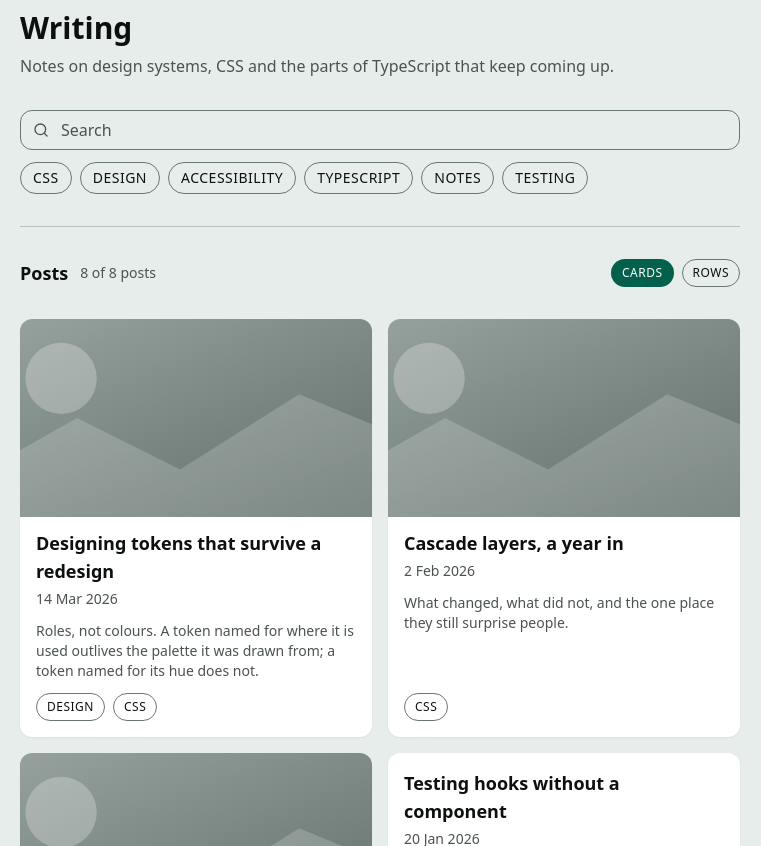
Test: the kitchen sink › typing filters the posts, once the typing stops
Type "cascade" into the search field at {"x": 380, "y": 130}, box [21,111,739,149]
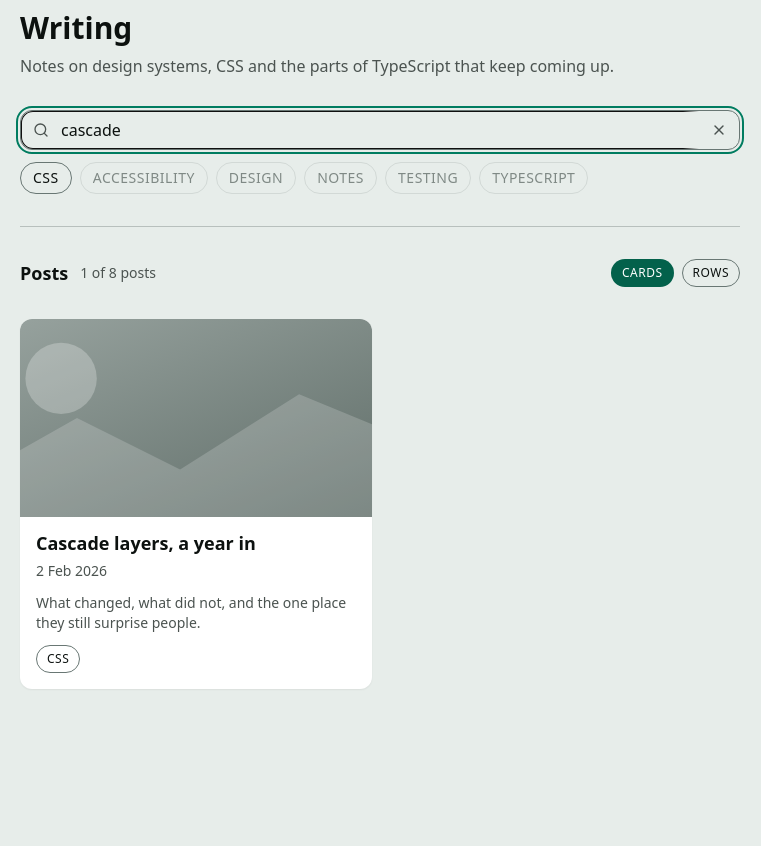
Expected: the link "Cascade layers, a year in" is shown, [36,531,256,555]
Result: the text "1 of 8 posts" is shown at [80,263,156,283]
